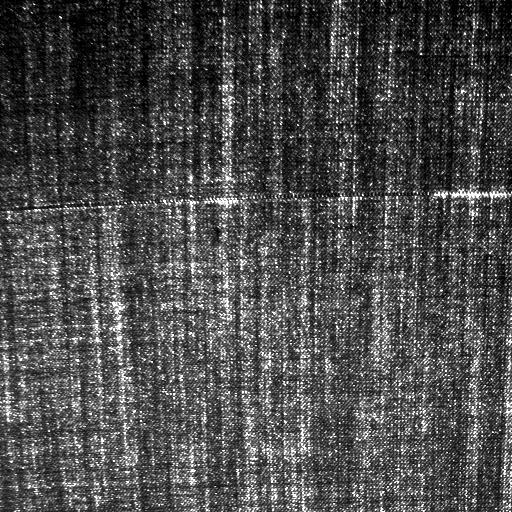fabric_broken_pick: (126, 188, 506, 202)
